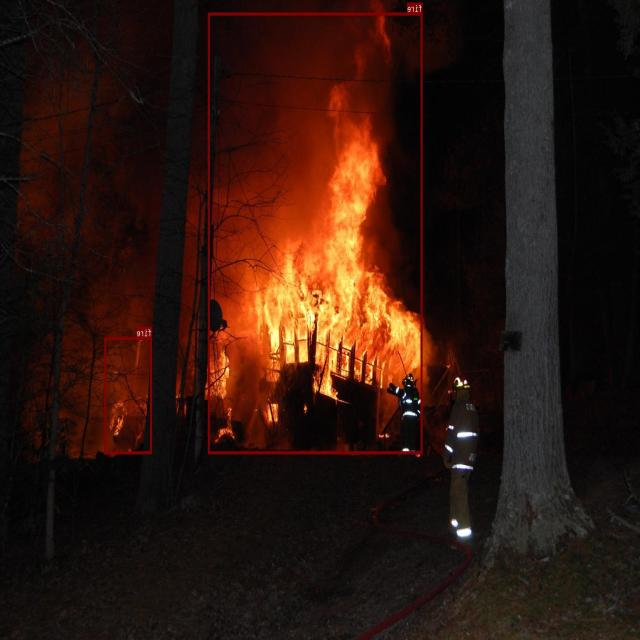fire: (208, 12, 423, 454), (105, 336, 152, 454)
